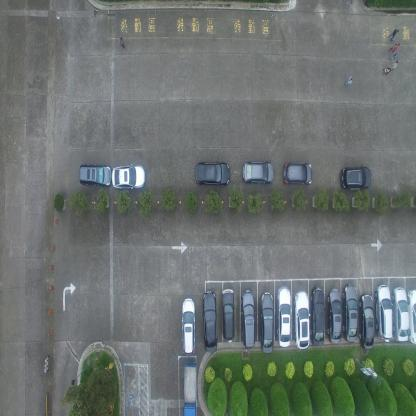car: (375, 283, 393, 343), (201, 290, 218, 352), (293, 290, 310, 350), (180, 296, 197, 355), (392, 287, 410, 342), (192, 160, 230, 186), (277, 285, 292, 349), (259, 290, 274, 354), (240, 288, 255, 348), (343, 282, 358, 342), (112, 164, 146, 190), (182, 361, 198, 416), (359, 294, 374, 351), (79, 163, 113, 188), (220, 288, 235, 344), (311, 286, 325, 346), (340, 164, 371, 191), (242, 159, 274, 185), (282, 160, 312, 187), (328, 287, 342, 343), (408, 288, 416, 344)
